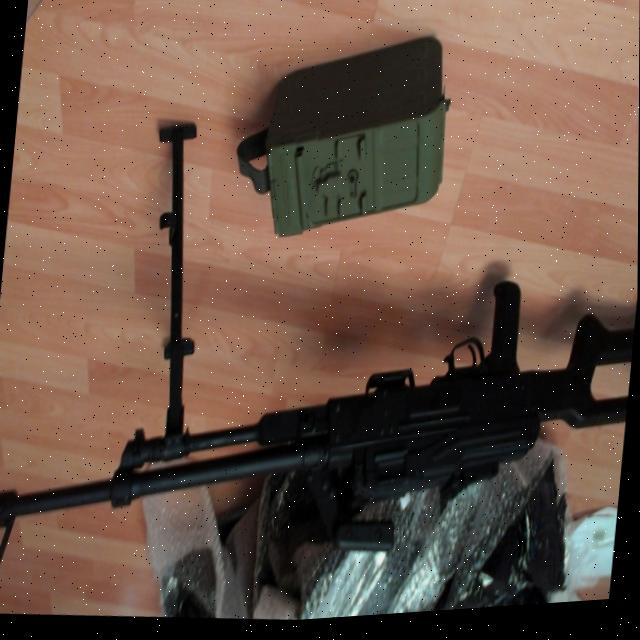firearm: (0, 83, 639, 640)
